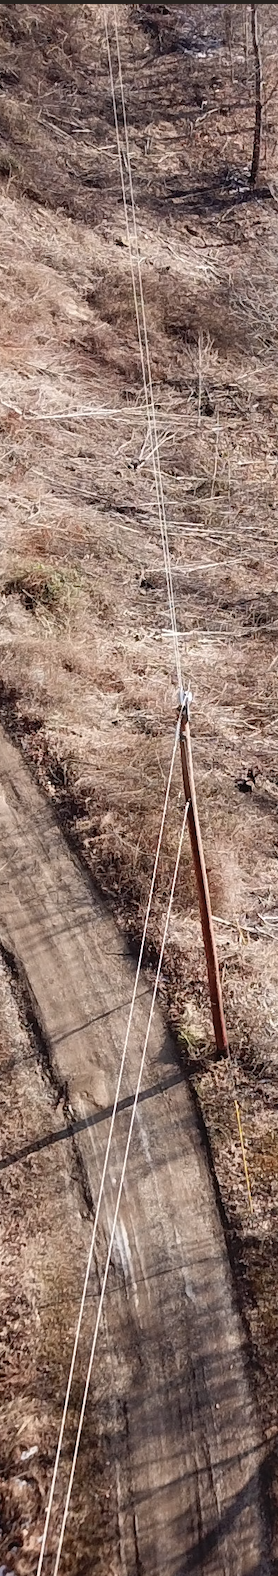pole: (135, 689, 262, 1061)
